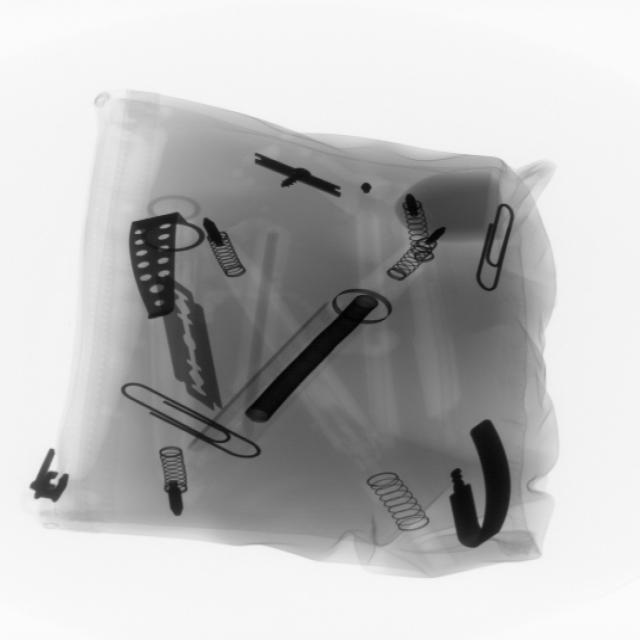BLADE: (156, 277, 224, 417)
